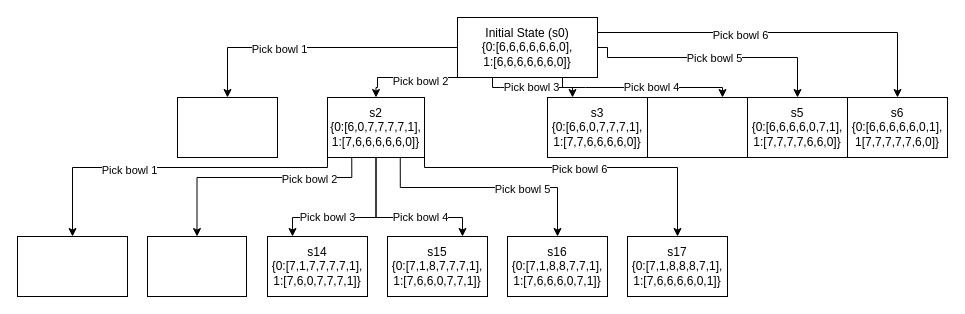
This 965x314 diagram has some shape labels left out. Here are the shapes that lost their labels. From the top down, the centre of each, then its label:
At (227,127): "s1 {0:[0,7,7,7,7,7,1], 1:[6,6,6,6,6,6,0]}".
At (697,127): "s4 {0:[6,6,6,0,7,7,1], 1:[7,7,7,6,6,6,0]}".
At (72,266): "s12 {0:[7,0,7,7,7,7,1],1:[0,7,7,7,7,7,1]}".
At (196,266): "s13 {0:[7,0,7,7,7,7,1], 1:[7,0,7,7,7,7,1]}".
